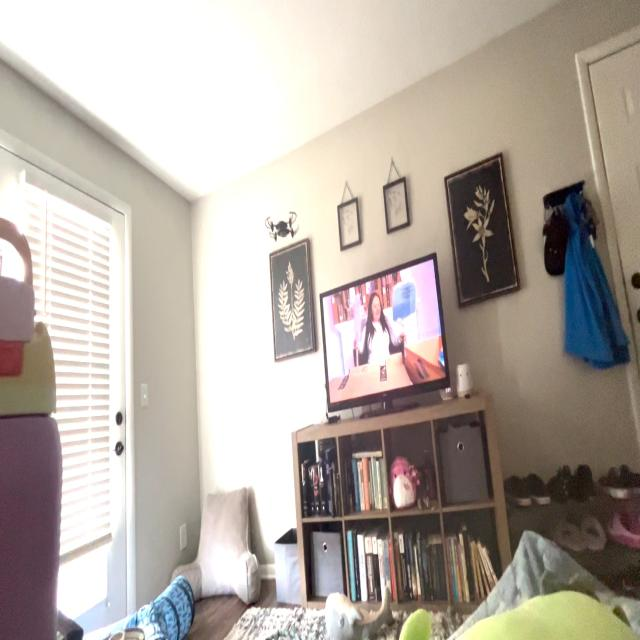drone: (257, 199, 301, 249)
